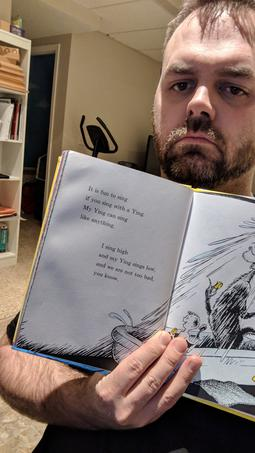text block: (75, 174, 150, 231), (87, 239, 163, 284)
